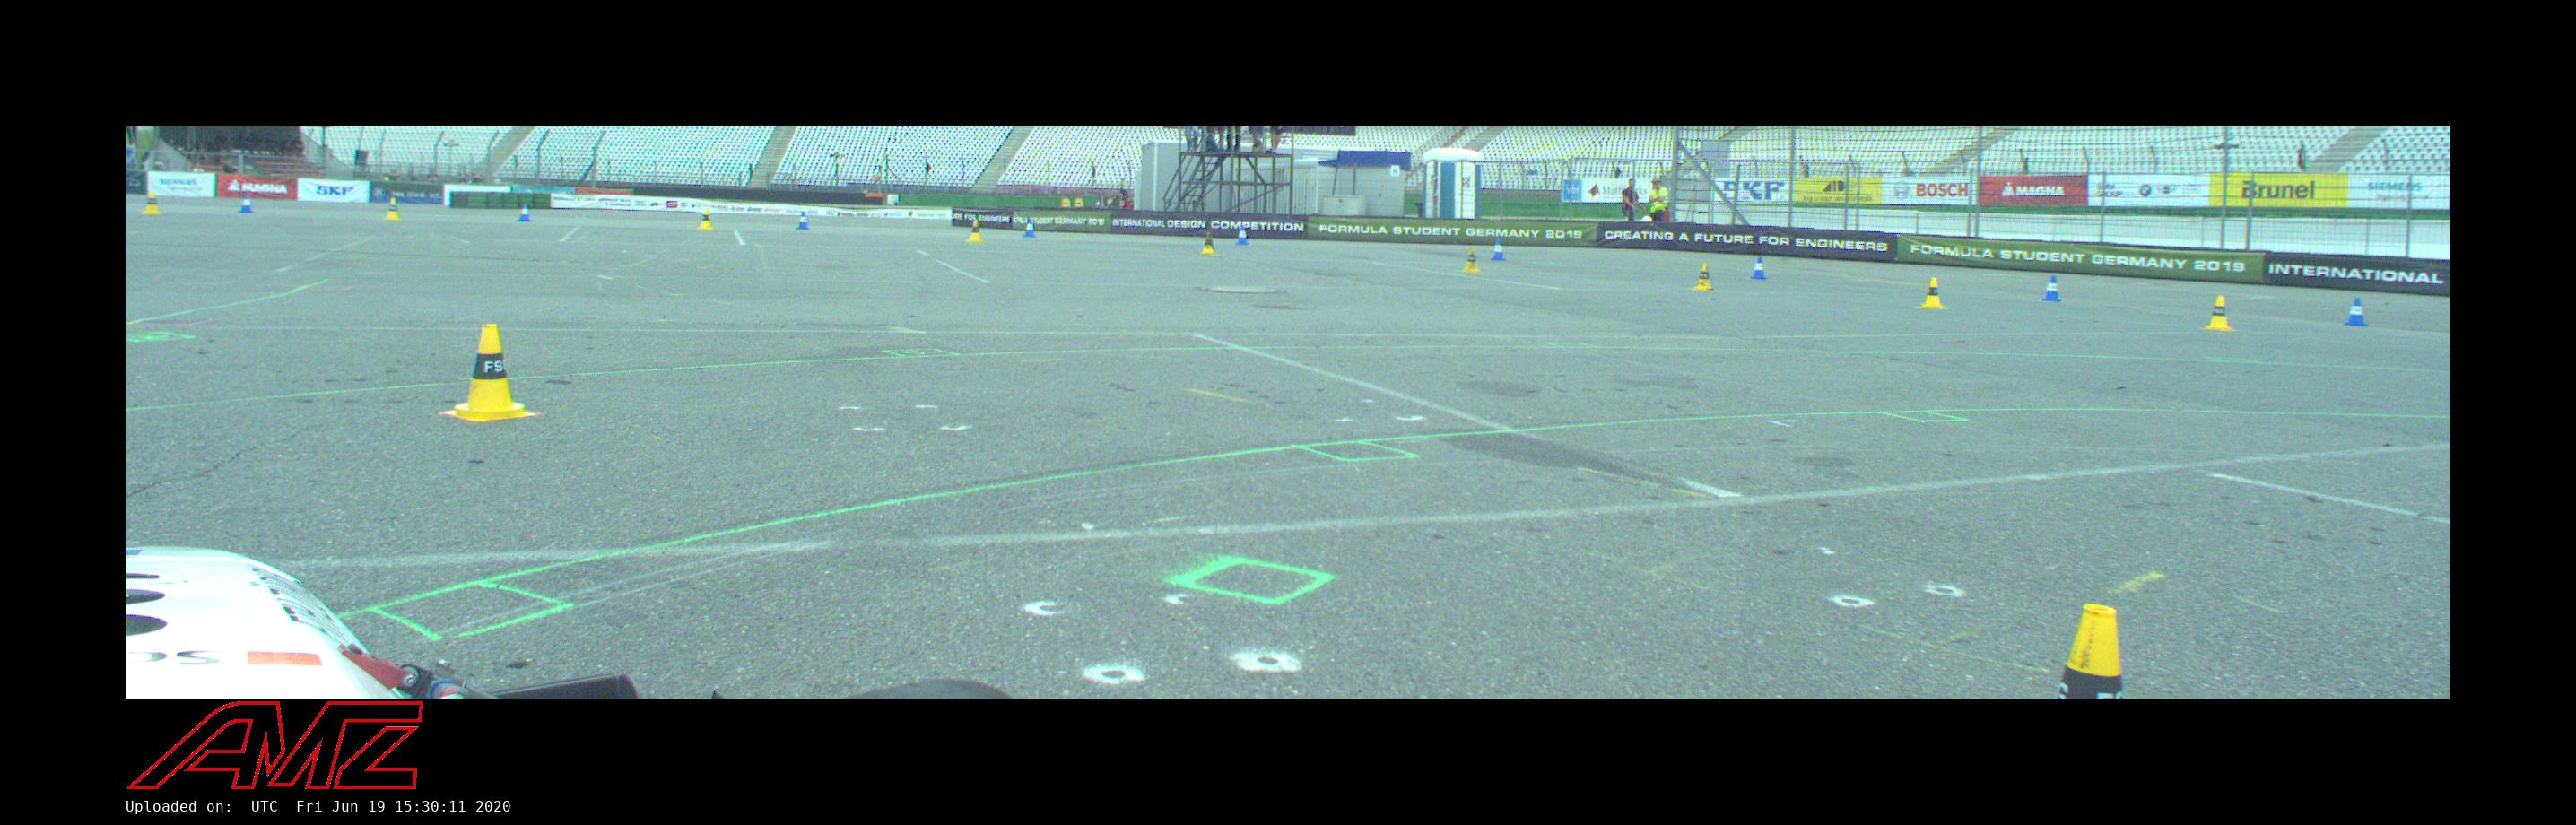blue_cone: (2344, 298, 2367, 326), (2042, 276, 2062, 301), (1490, 239, 1506, 260), (1751, 257, 1766, 279), (239, 195, 254, 213), (518, 204, 532, 221), (1236, 226, 1249, 245), (796, 212, 810, 230), (1024, 221, 1036, 237)
yellow_cone: (446, 325, 535, 421), (2058, 604, 2123, 699), (2199, 296, 2238, 331), (1920, 278, 1945, 308), (1693, 263, 1714, 291), (142, 191, 161, 214), (1198, 231, 1217, 256), (1463, 248, 1481, 273), (384, 198, 403, 221), (967, 220, 984, 243), (698, 208, 715, 230)
